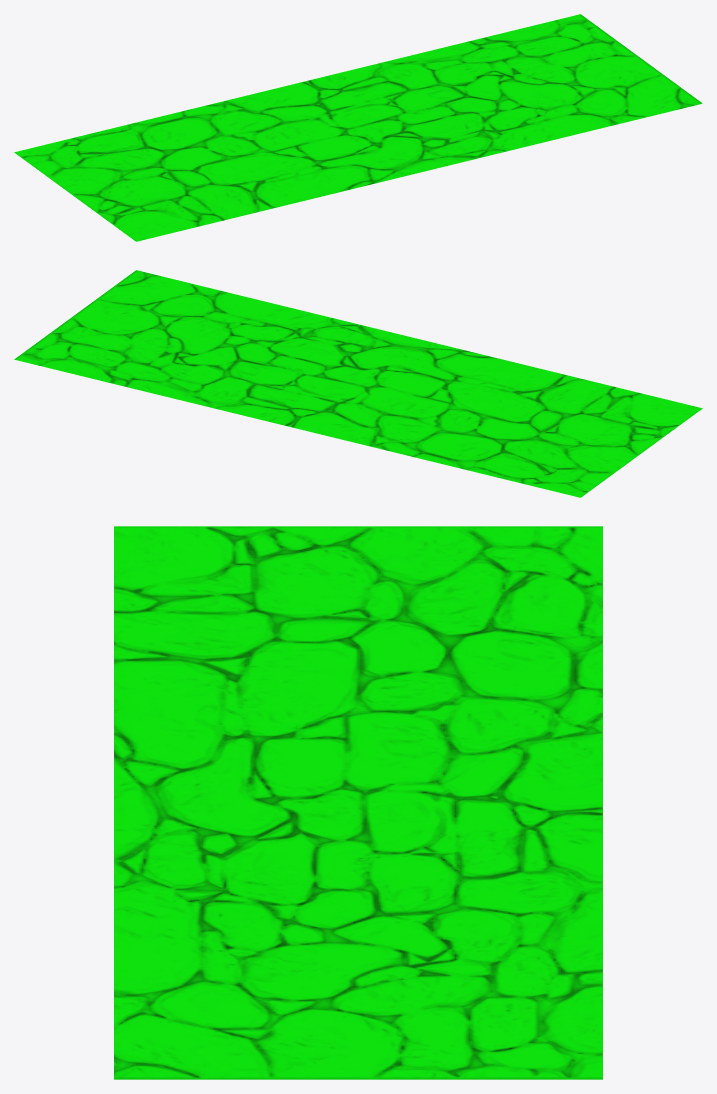
The model's file is 게스트룸 천장.fbx.
The picture shows the model from 3 angles, top to bottom: view 1: azimuth 30°, elevation 25°; view 2: azimuth 150°, elevation 25°; view 3: azimuth 270°, elevation 25°; orthographic projection. The views are drawn at different scales.
Parts seen in each view (by area): view 1: 게스트룸 천장; view 2: 게스트룸 천장; view 3: 게스트룸 천장.
Boxes of the visible parts, left/top/right/bottom form: 게스트룸 천장: left=14, top=14, right=702, bottom=241; 게스트룸 천장: left=14, top=270, right=702, bottom=497; 게스트룸 천장: left=114, top=526, right=602, bottom=1079.
Bounding box in the file's own units: 969 × 5.68e-14 × 362.
